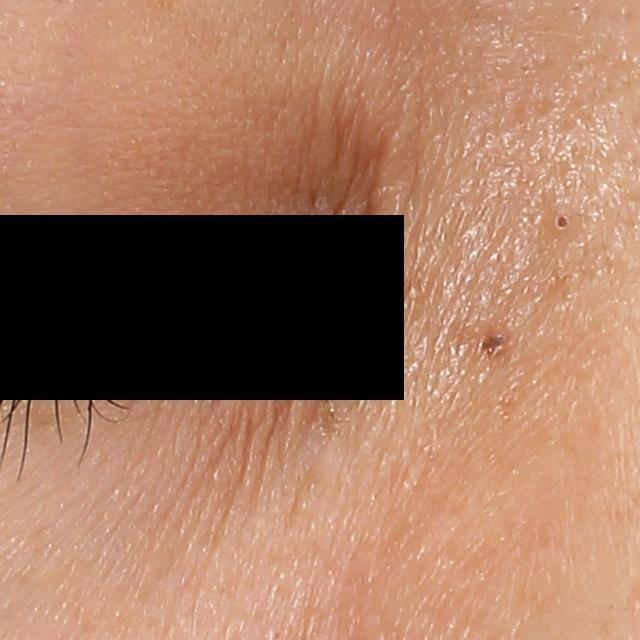comedo: (540, 197, 581, 242)
nevus: (474, 321, 512, 362)
